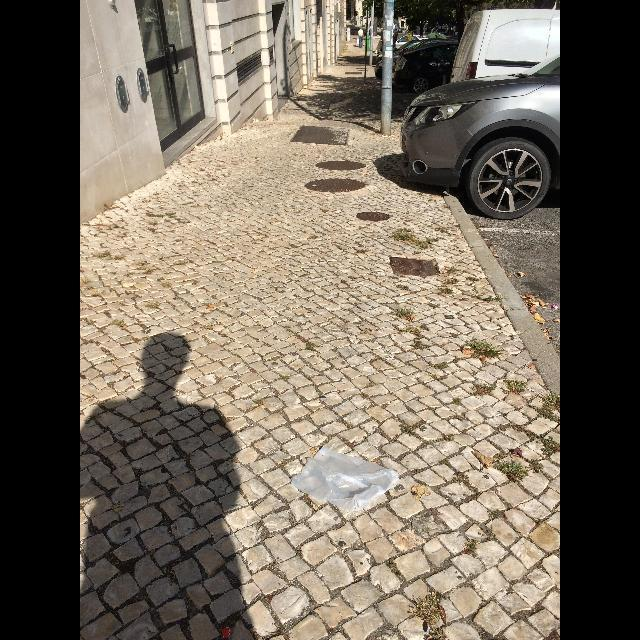Plastic: (290, 447, 400, 509), (221, 626, 233, 638), (550, 303, 560, 309)
